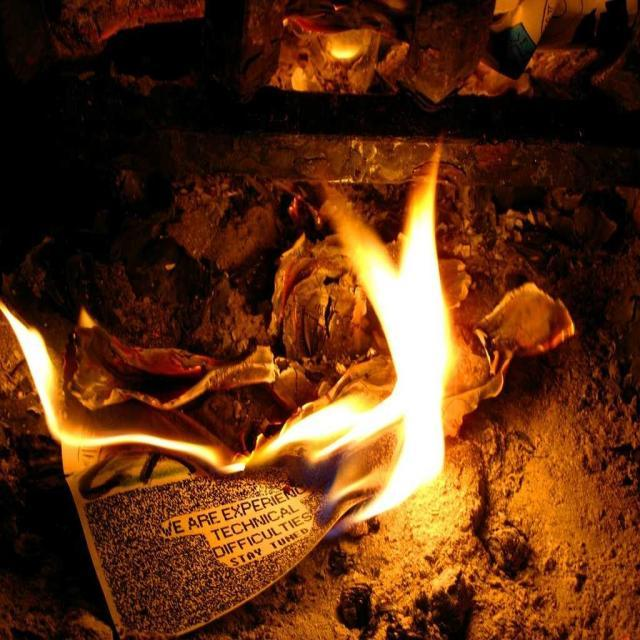Fire: (335, 181, 459, 488)
